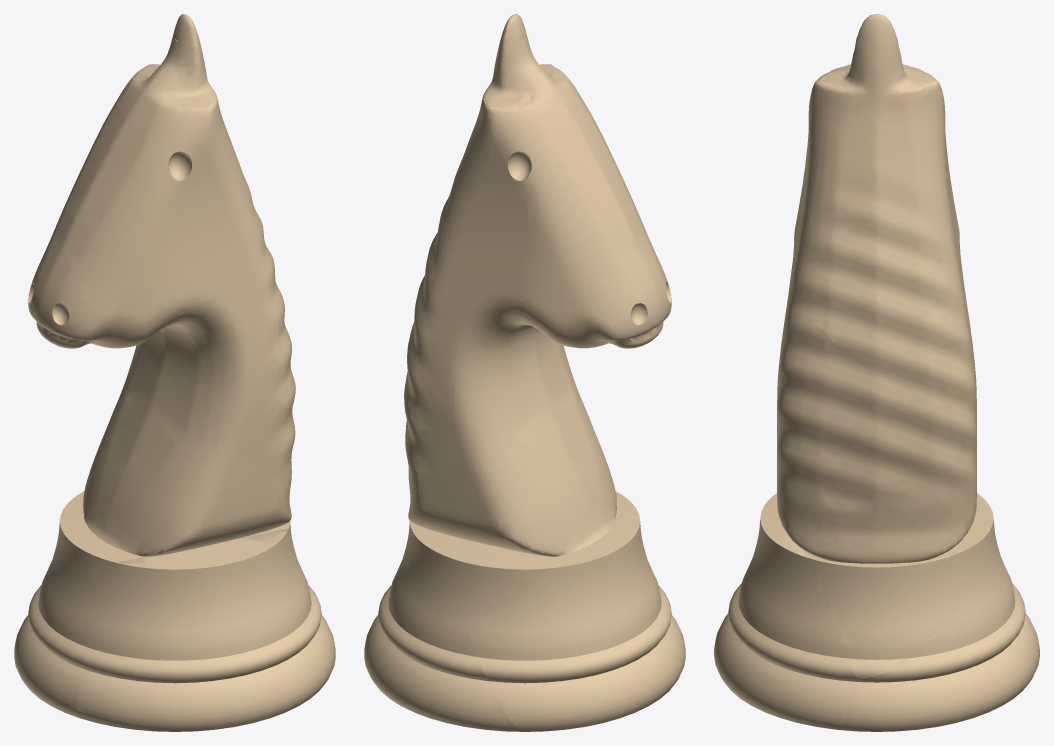
Rendered from knight.glb.
3 renders of one model, left to right at view 1: azimuth 30°, elevation 25°; view 2: azimuth 150°, elevation 25°; view 3: azimuth 270°, elevation 25°, orthographic.
Visible parts, largest first — view 1: chunk-02.002, chunk-05.002, chunk-07.002, chunk-11.002, chunk-01.002, chunk-13.001, chunk-10.002, chunk-14, chunk-08.002, chunk-03.002, chunk-15, chunk-06.002; view 2: chunk-01.002, chunk-03.002, chunk-10.002, chunk-06.002, chunk-12.001, chunk-00.002, chunk-09.002, chunk-05.002, chunk-13.001, chunk-15, chunk-07.002, chunk-08.002 (+3 smaller); view 3: chunk-04.002, chunk-09.002, chunk-02.002, chunk-00.002, chunk-06.002, chunk-12.001, chunk-07.002, chunk-14, chunk-15, chunk-05.002, chunk-11.002, chunk-03.002.
Boxes of the visible parts, box(x1,y1,x2,y2) form: chunk-02.002: box(76, 528, 335, 731); chunk-05.002: box(87, 384, 295, 566); chunk-07.002: box(139, 286, 295, 444); chunk-11.002: box(109, 167, 268, 319); chunk-01.002: box(14, 510, 102, 718); chunk-13.001: box(76, 79, 239, 209); chunk-10.002: box(32, 180, 186, 332); chunk-14: box(137, 65, 235, 159); chunk-08.002: box(28, 284, 155, 348); chunk-03.002: box(63, 399, 121, 529); chunk-15: box(131, 14, 206, 80); chunk-06.002: box(118, 340, 147, 404); chunk-01.002: box(466, 533, 684, 731); chunk-03.002: box(400, 448, 593, 627); chunk-10.002: box(520, 185, 662, 346); chunk-06.002: box(404, 322, 523, 476); chunk-12.001: box(446, 108, 576, 262); chunk-00.002: box(364, 582, 521, 731); chunk-09.002: box(414, 201, 534, 369); chunk-05.002: box(520, 380, 639, 542); chunk-13.001: box(524, 90, 623, 212); chunk-15: box(480, 14, 537, 112); chunk-07.002: box(509, 328, 574, 410); chunk-08.002: box(567, 269, 671, 348); chunk-04.002: box(811, 441, 976, 679); chunk-09.002: box(794, 204, 970, 378); chunk-02.002: box(714, 493, 858, 729); chunk-00.002: box(840, 575, 1039, 731); chunk-06.002: box(859, 331, 976, 479); chunk-12.001: box(831, 83, 953, 222); chunk-07.002: box(777, 279, 876, 457); chunk-14: box(808, 56, 904, 162); chunk-15: box(853, 14, 939, 113); chunk-05.002: box(777, 433, 836, 562); chunk-11.002: box(790, 138, 852, 287); chunk-03.002: box(959, 493, 1007, 612).
Bounding box in the file's own units: 0.5828 × 1.3 × 0.5828.
